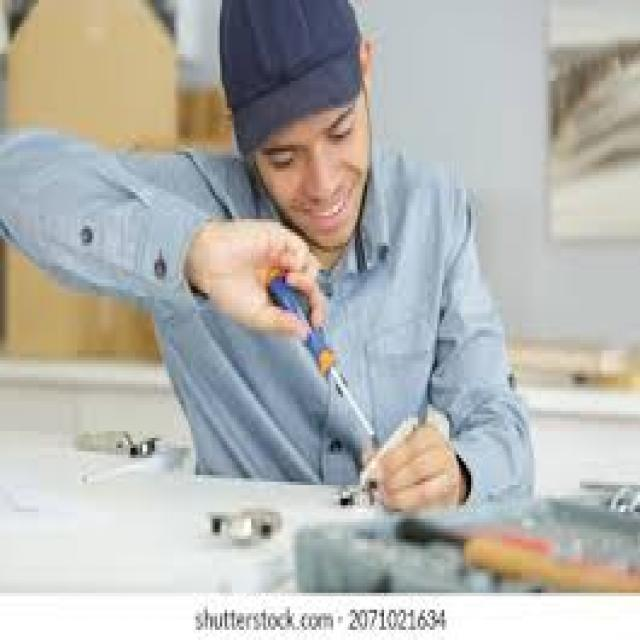screwdriver: (257, 260, 385, 457)
